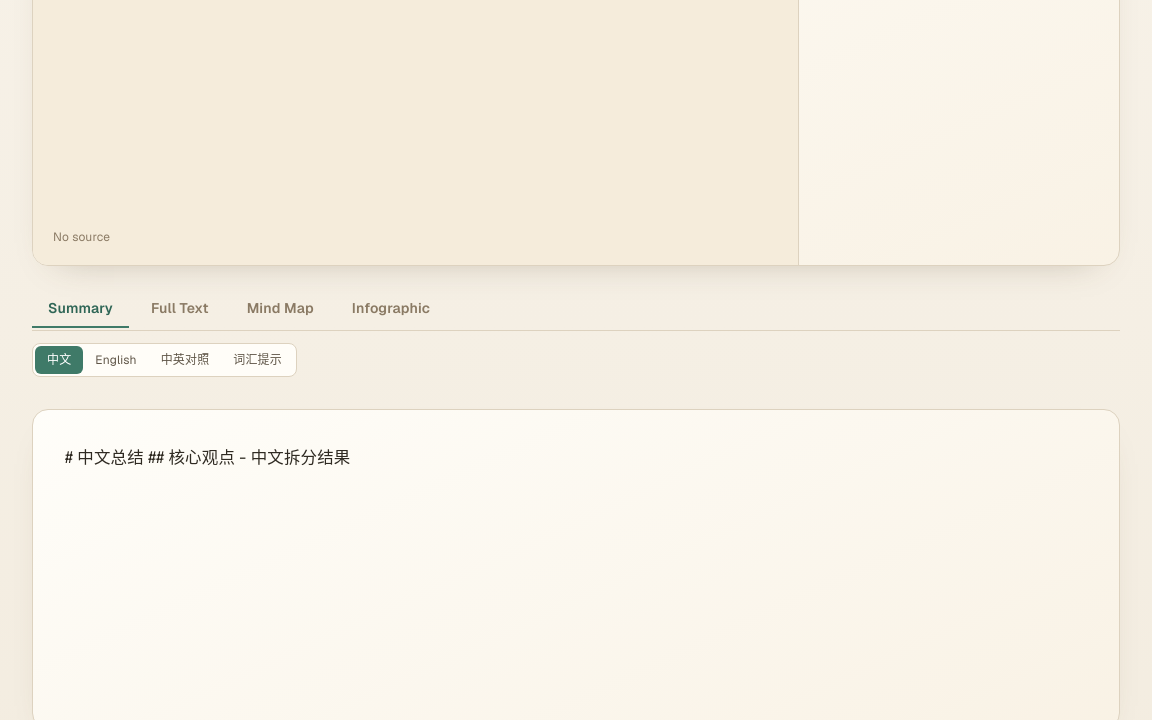
Scenario: DashboardPage language modes › splits marker-delimited bilingual content stored in the Chinese summary field
The width and height of the screenshot is (1152, 720).
(page scrolled)
Click the button "English" at (116, 360), box left=83, top=346, right=149, bottom=374
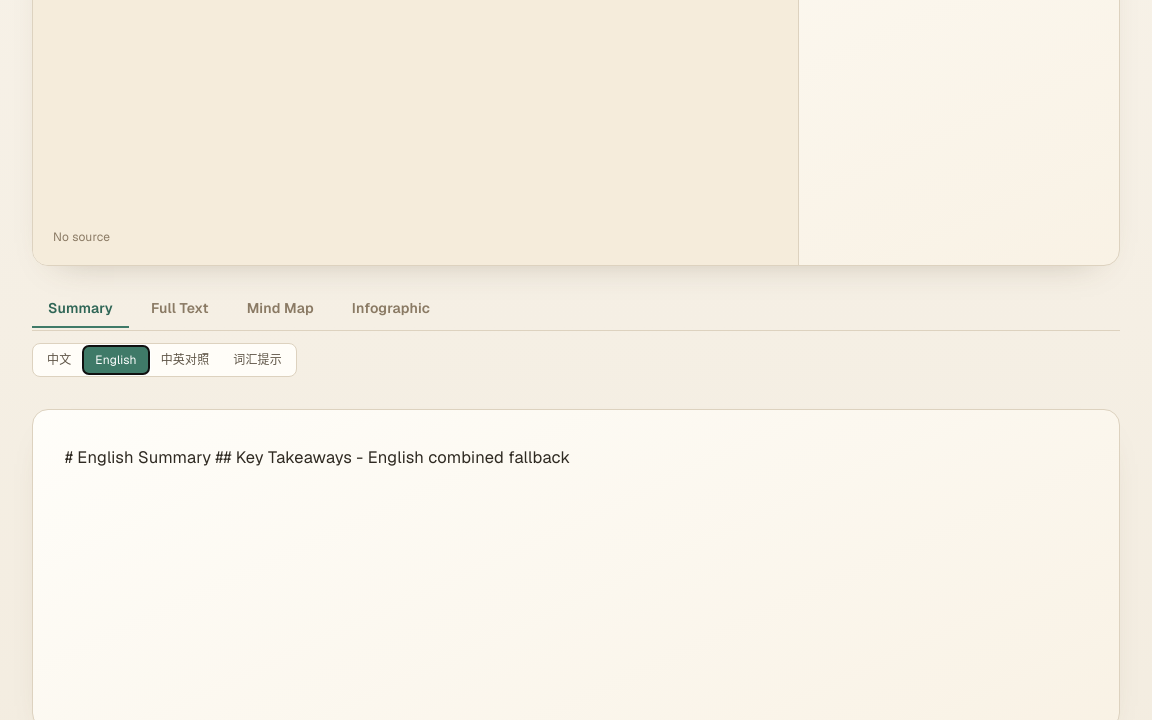
Expected: the text "English combined fallback" is shown, left=65, top=446, right=570, bottom=468
